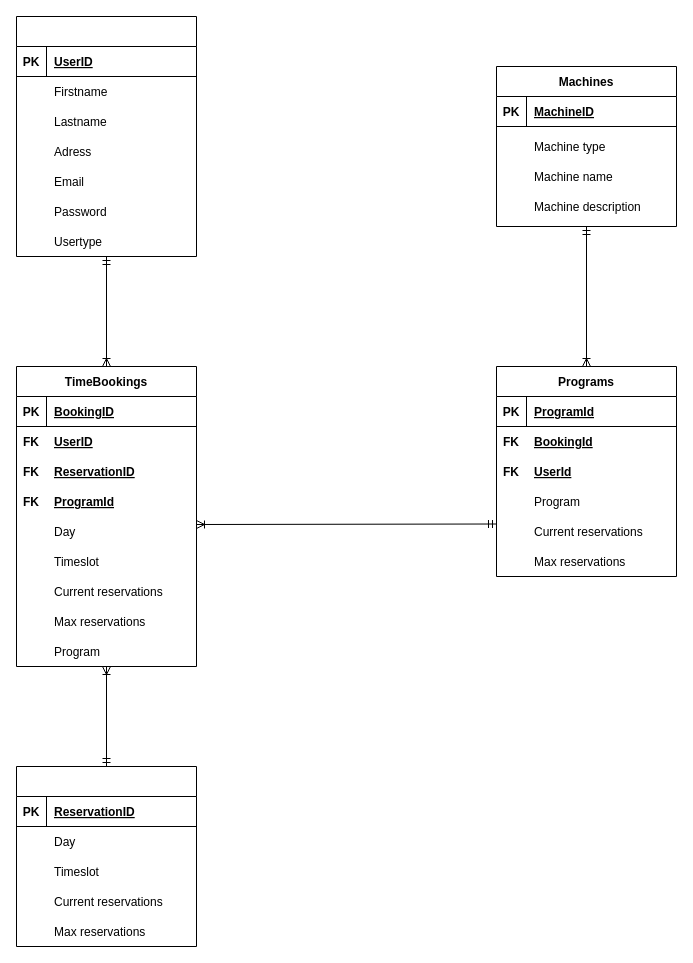
This 693x963 diagram has some shape labels left out. The box of each missing label's shape, as (x1, y1, x2, y2) in pixels:
Time slots: (16, 766, 196, 946)
Users: (16, 16, 196, 256)
